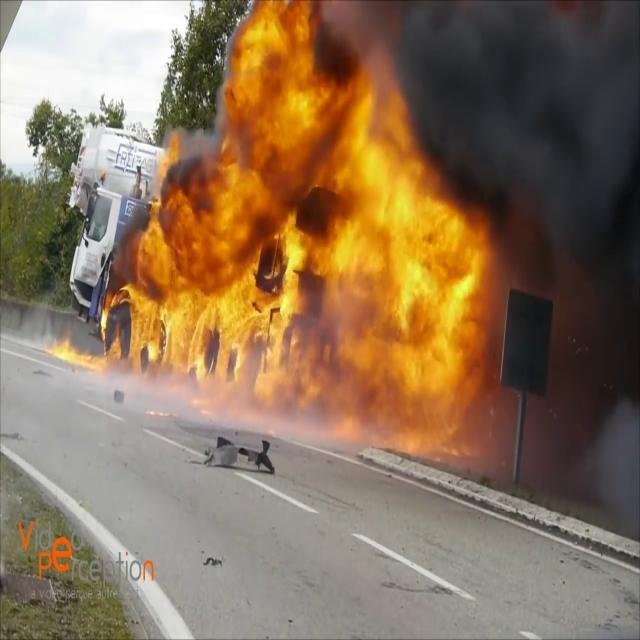Fire: (104, 3, 498, 449), (44, 332, 98, 370)
Smoke: (406, 1, 640, 282)
